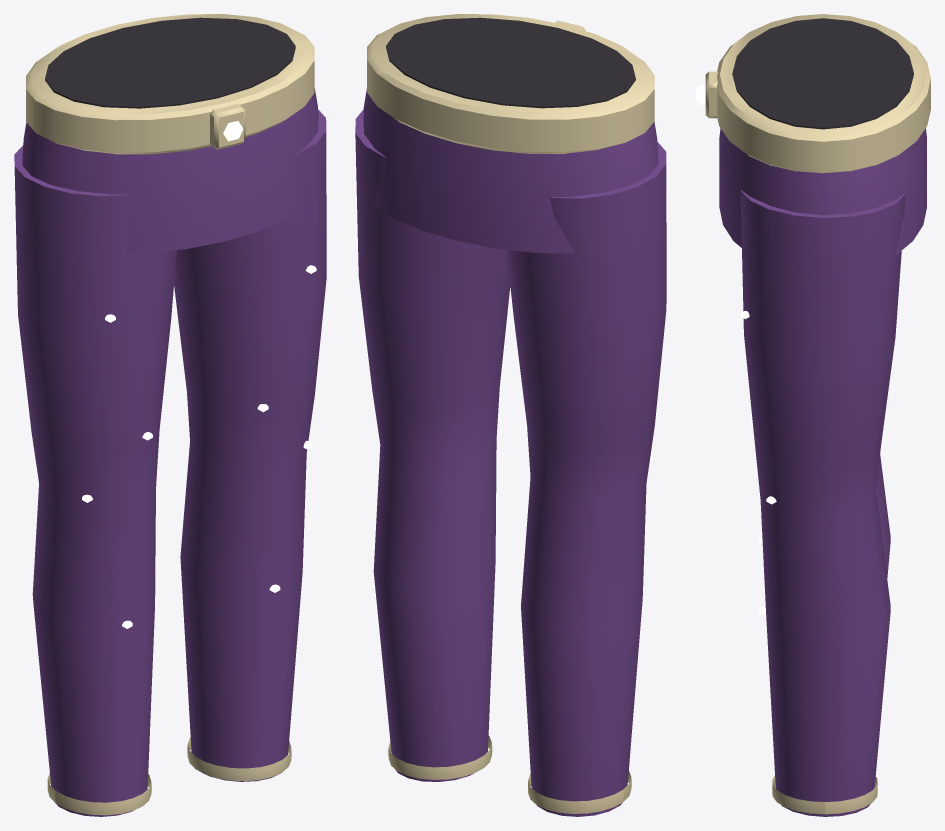
File: sage_leggings.glb
The picture shows the model from 3 angles, left to right: view 1: azimuth 30°, elevation 25°; view 2: azimuth 150°, elevation 25°; view 3: azimuth 270°, elevation 25°; orthographic projection. The views are drawn at different scales.
Parts seen in each view (by area): view 1: sage_leggings; view 2: sage_leggings; view 3: sage_leggings.
Boxes of the visible parts, x1,y1,x2,y2 form: sage_leggings: (14,14,326,816); sage_leggings: (355,14,666,816); sage_leggings: (695,14,930,816).
Bounding box in the file's own units: 0.2991 × 0.7068 × 0.2182.
